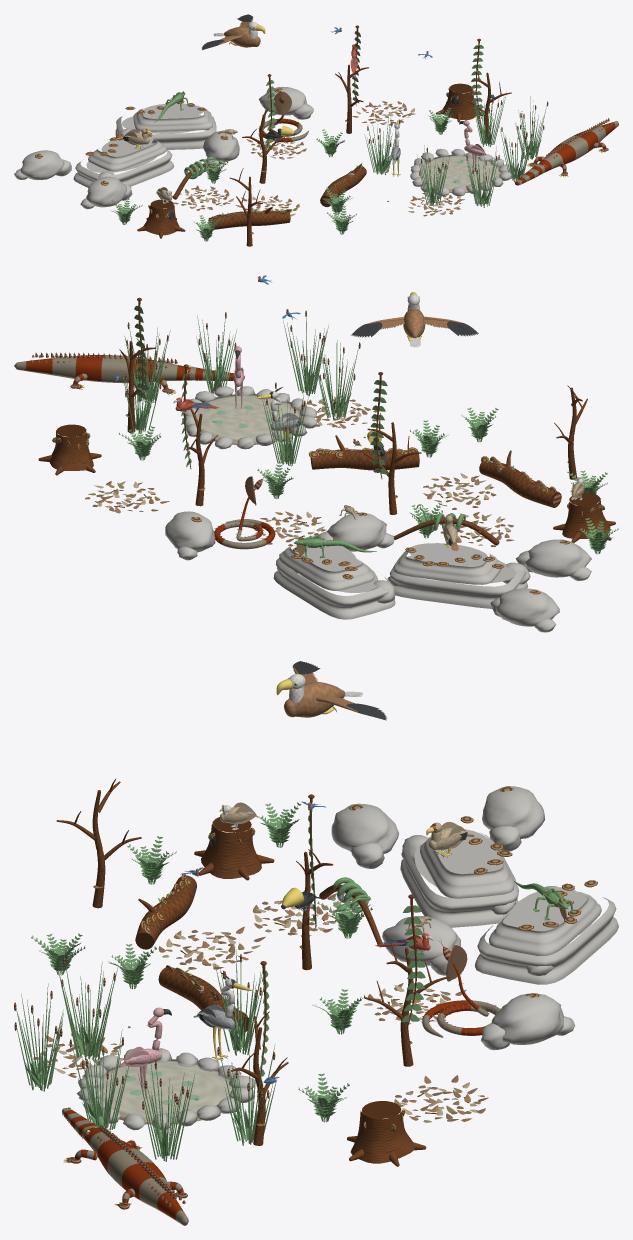
File: birds-and-reptiles-hd-rainforest-riverba-eeabb802-starter-scene__28131.glb
3 renders of one model, top to bottom at view 1: azimuth 30°, elevation 25°; view 2: azimuth 150°, elevation 25°; view 3: azimuth 270°, elevation 25°, orthographic. The views are drawn at different scales.
Visible parts, largest first — view 1: 000-rock-ledge/0, 001-rock-ledge/0, 047-saltwater-crocodile/0, 006-shallow-pool/1, 006-shallow-pool/2, 006-shallow-pool/0, 005-basking-rock/0, 002-basking-rock/0, 014-mossy-log/0, 015-tree-stump-with-hollow/0, 016-tree-stump-with-hollow/0, 003-basking-rock/0 (+18 smaller); view 2: 000-rock-ledge/0, 001-rock-ledge/0, 047-saltwater-crocodile/0, 006-shallow-pool/2, 006-shallow-pool/1, 006-shallow-pool/0, 002-basking-rock/0, 005-basking-rock/0, 003-basking-rock/0, 016-tree-stump-with-hollow/0, 004-basking-rock/0, 013-mossy-log/0 (+24 smaller); view 3: 001-rock-ledge/0, 000-rock-ledge/0, 047-saltwater-crocodile/0, 006-shallow-pool/1, 006-shallow-pool/2, 006-shallow-pool/0, 004-basking-rock/0, 002-basking-rock/0, 016-tree-stump-with-hollow/0, 005-basking-rock/0, 015-tree-stump-with-hollow/0, 050-king-cobra-hooded/0 (+24 smaller).
Boxes of the visible parts, bbox=[...] form: 000-rock-ledge/0: bbox=[73, 136, 174, 187]; 001-rock-ledge/0: bbox=[115, 103, 216, 149]; 047-saltwater-crocodile/0: bbox=[515, 118, 618, 185]; 006-shallow-pool/1: bbox=[421, 155, 501, 193]; 006-shallow-pool/2: bbox=[421, 155, 500, 189]; 006-shallow-pool/0: bbox=[410, 148, 511, 196]; 005-basking-rock/0: bbox=[14, 150, 71, 180]; 002-basking-rock/0: bbox=[80, 176, 132, 209]; 014-mossy-log/0: bbox=[208, 207, 290, 229]; 015-tree-stump-with-hollow/0: bbox=[137, 199, 185, 238]; 016-tree-stump-with-hollow/0: bbox=[435, 83, 483, 122]; 003-basking-rock/0: bbox=[203, 131, 239, 166]; 000-rock-ledge/0: bbox=[387, 543, 530, 608]; 001-rock-ledge/0: bbox=[273, 540, 395, 619]; 047-saltwater-crocodile/0: bbox=[14, 352, 244, 393]; 006-shallow-pool/2: bbox=[195, 394, 300, 440]; 006-shallow-pool/1: bbox=[196, 394, 304, 444]; 006-shallow-pool/0: bbox=[182, 386, 317, 449]; 002-basking-rock/0: bbox=[516, 539, 591, 580]; 005-basking-rock/0: bbox=[490, 588, 559, 632]; 003-basking-rock/0: bbox=[317, 512, 394, 551]; 016-tree-stump-with-hollow/0: bbox=[38, 424, 101, 475]; 004-basking-rock/0: bbox=[165, 511, 215, 560]; 013-mossy-log/0: bbox=[310, 435, 419, 470]; 001-rock-ledge/0: bbox=[475, 886, 618, 984]; 000-rock-ledge/0: bbox=[400, 829, 518, 927]; 047-saltwater-crocodile/0: bbox=[62, 1107, 188, 1224]; 006-shallow-pool/1: bbox=[98, 1059, 234, 1124]; 006-shallow-pool/2: bbox=[96, 1059, 231, 1119]; 006-shallow-pool/0: bbox=[76, 1048, 255, 1130]; 004-basking-rock/0: bbox=[480, 993, 575, 1050]; 002-basking-rock/0: bbox=[331, 803, 399, 868]; 016-tree-stump-with-hollow/0: bbox=[347, 1101, 426, 1166]; 005-basking-rock/0: bbox=[482, 786, 544, 851]; 015-tree-stump-with-hollow/0: bbox=[194, 817, 274, 880]; 050-king-cobra-hooded/0: bbox=[421, 945, 500, 1037].
Bounding box in the file's own units: 14.91 × 4.67 × 9.04.
16 materials, 12 textured.
